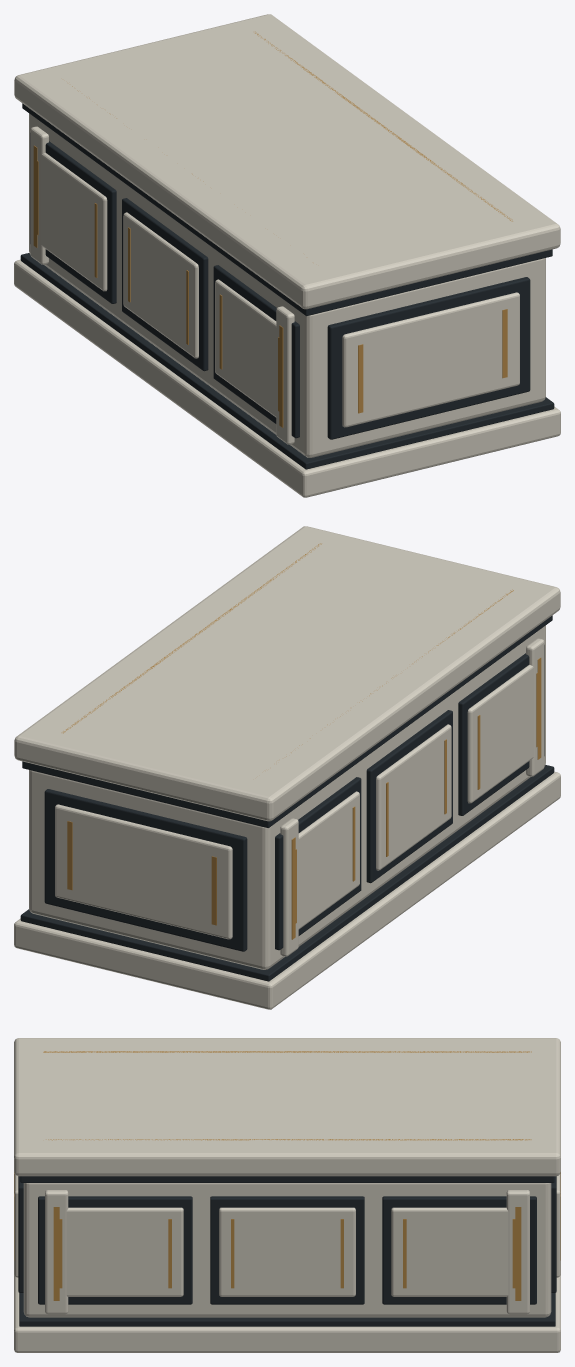
Rendered from SM_Aurelion_KIT_CoverCoffer.fbx.
3 renders of one model, top to bottom at view 1: azimuth 30°, elevation 25°; view 2: azimuth 150°, elevation 25°; view 3: azimuth 270°, elevation 25°, orthographic. The views are drawn at different scales.
Visible parts, largest first — view 1: SM_Aurelion_KIT_CoverCoffer; view 2: SM_Aurelion_KIT_CoverCoffer; view 3: SM_Aurelion_KIT_CoverCoffer.
Part boxes in pixels (bbox=[...]): SM_Aurelion_KIT_CoverCoffer: bbox=[14, 14, 560, 497]; SM_Aurelion_KIT_CoverCoffer: bbox=[14, 526, 560, 1009]; SM_Aurelion_KIT_CoverCoffer: bbox=[14, 1038, 560, 1352].
Size of what is drawn, in the model's own units: 143 by 280 by 112.
